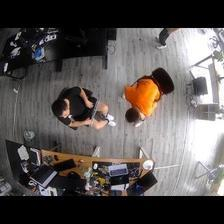normal: (50, 85, 116, 134), (122, 74, 170, 127)
